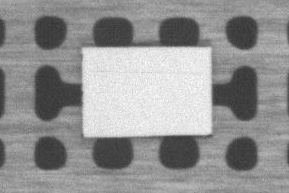DIE_CRACK: (94, 68, 201, 75)
